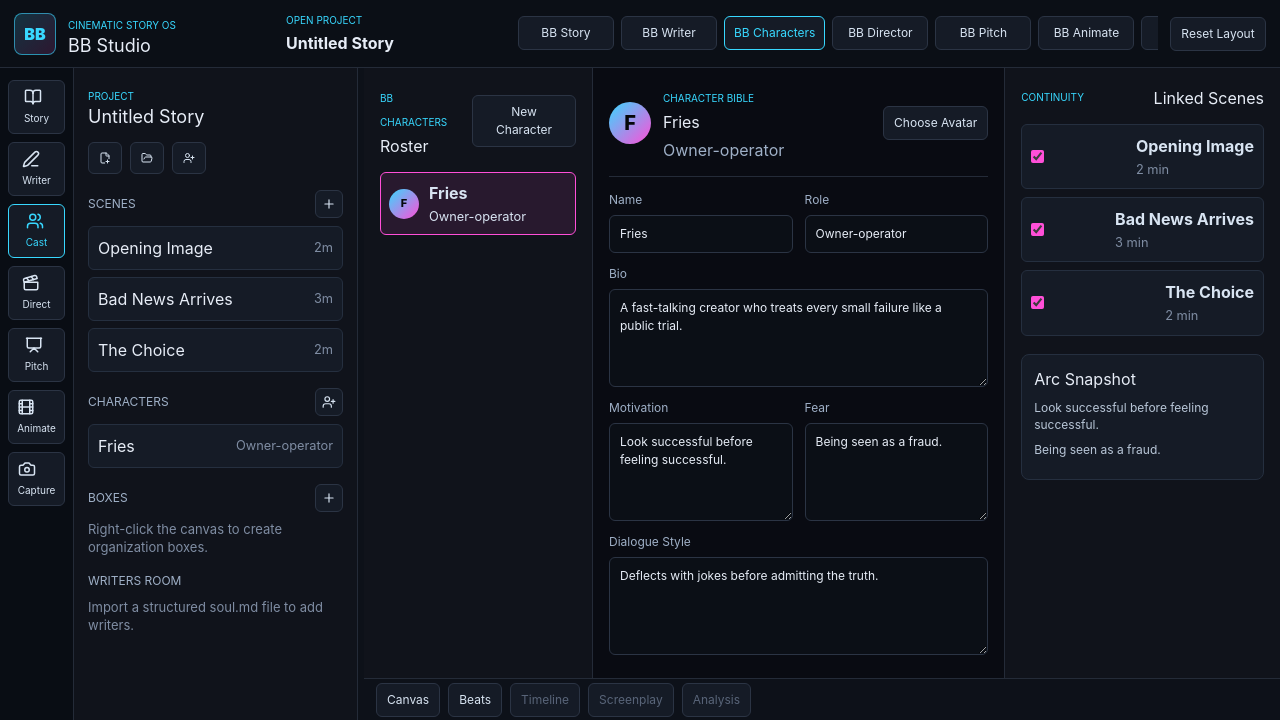
App › opens BB Director as a shot planning workspace
What coordinates should you click on to do the following:
click the button "BB Director"
I would click on:
 (880, 32)
Its box is [832, 16, 928, 50].
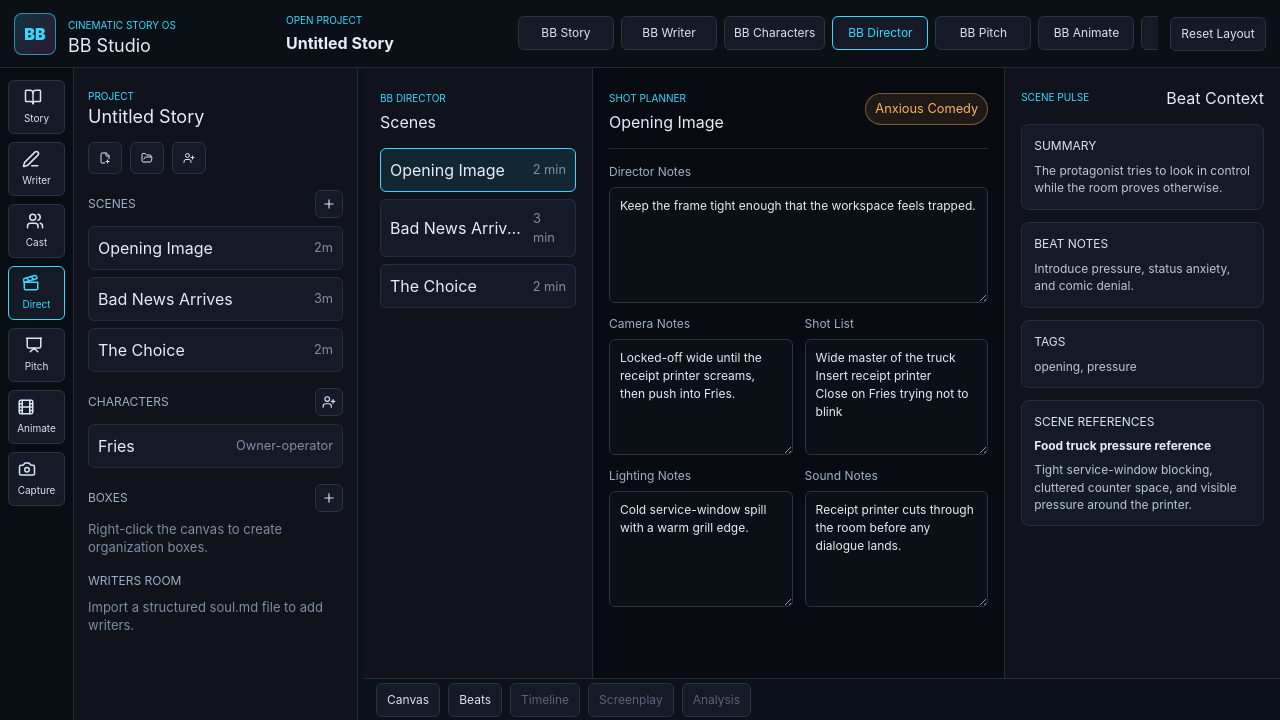
Result: the text "Shot Planner" is shown at [609, 92, 686, 104]
Result: the text box showing "Locked-off wide" is shown at [609, 339, 793, 455]
Result: the heading "Scene References" is shown at [1034, 414, 1154, 429]
